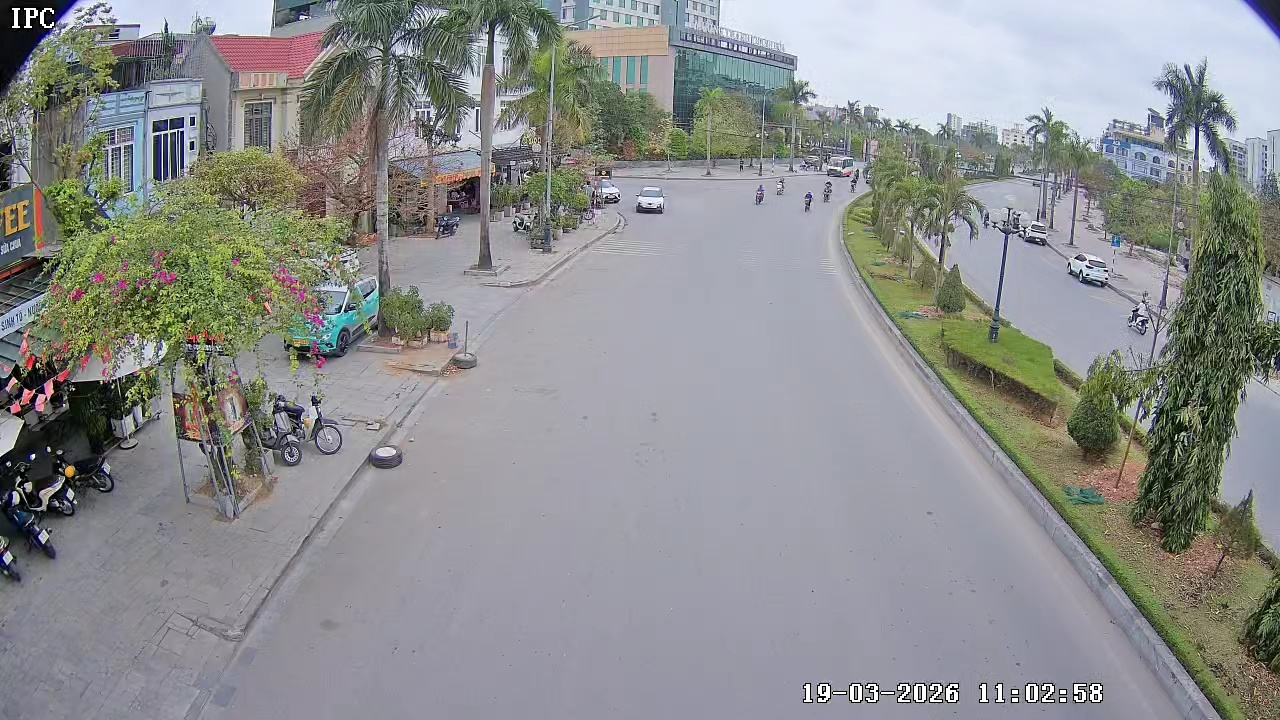bike: (260, 390, 304, 464), (307, 387, 344, 456)
car: (1066, 251, 1111, 288), (634, 187, 666, 214)
motorbike: (0, 527, 24, 585), (752, 180, 766, 207), (800, 186, 815, 211)
